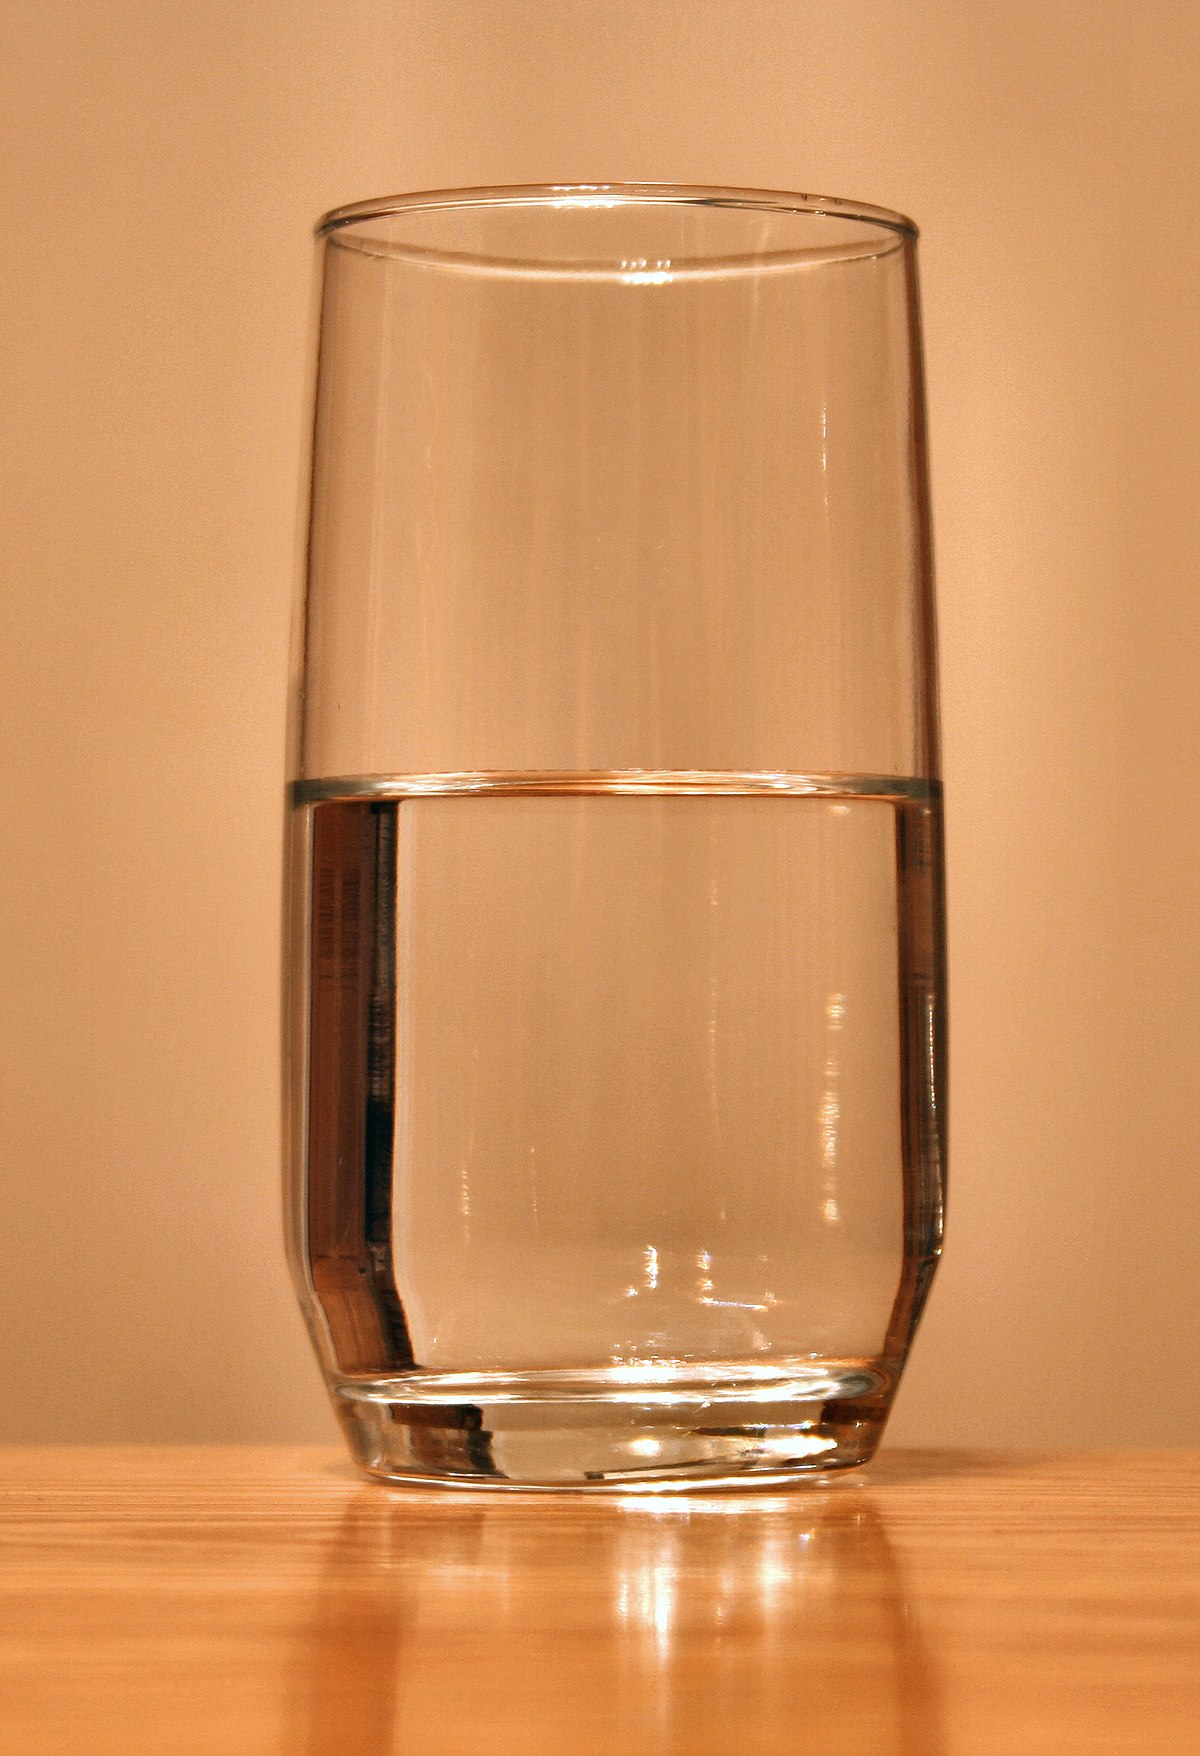glass of water: (255, 140, 969, 1534)
